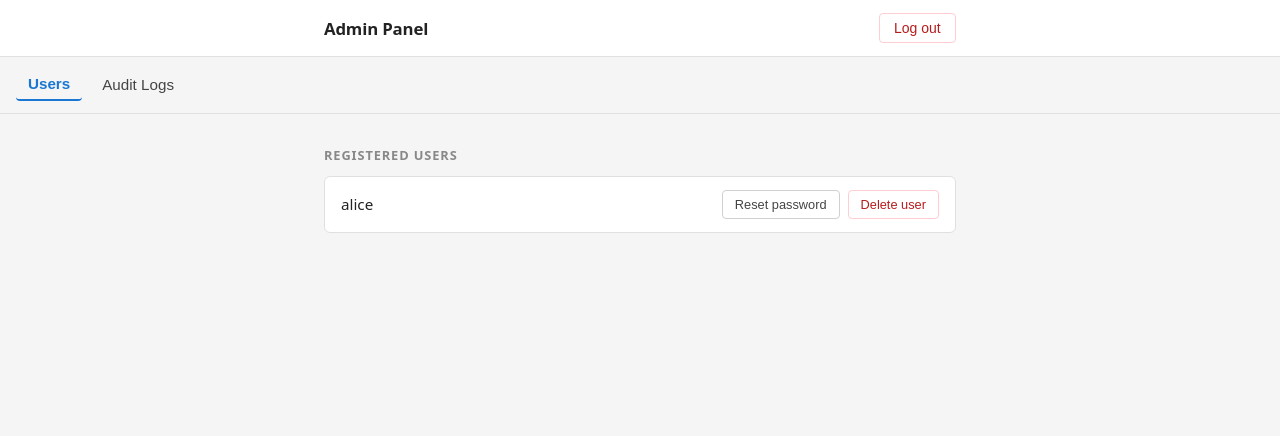
Test: Admin panel — F-27 reset password › confirm reset button is disabled when password input is empty
This screenshot has width=1280, height=436.
Click the button with aria-label "reset password for alice" at (781, 204), box [722,190,840,219]
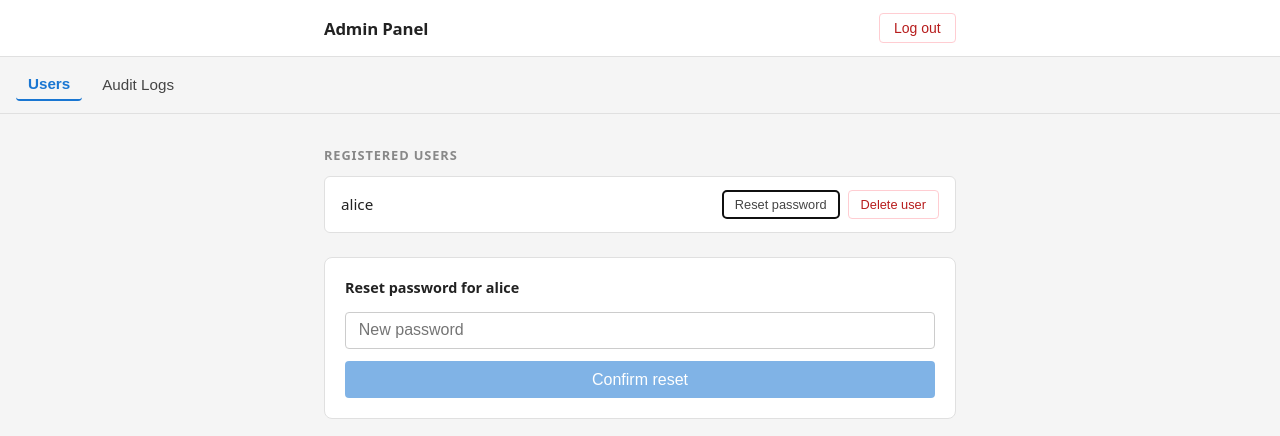
Expected: the button with id "confirm-reset-button" is disabled, [345,361,935,398]
